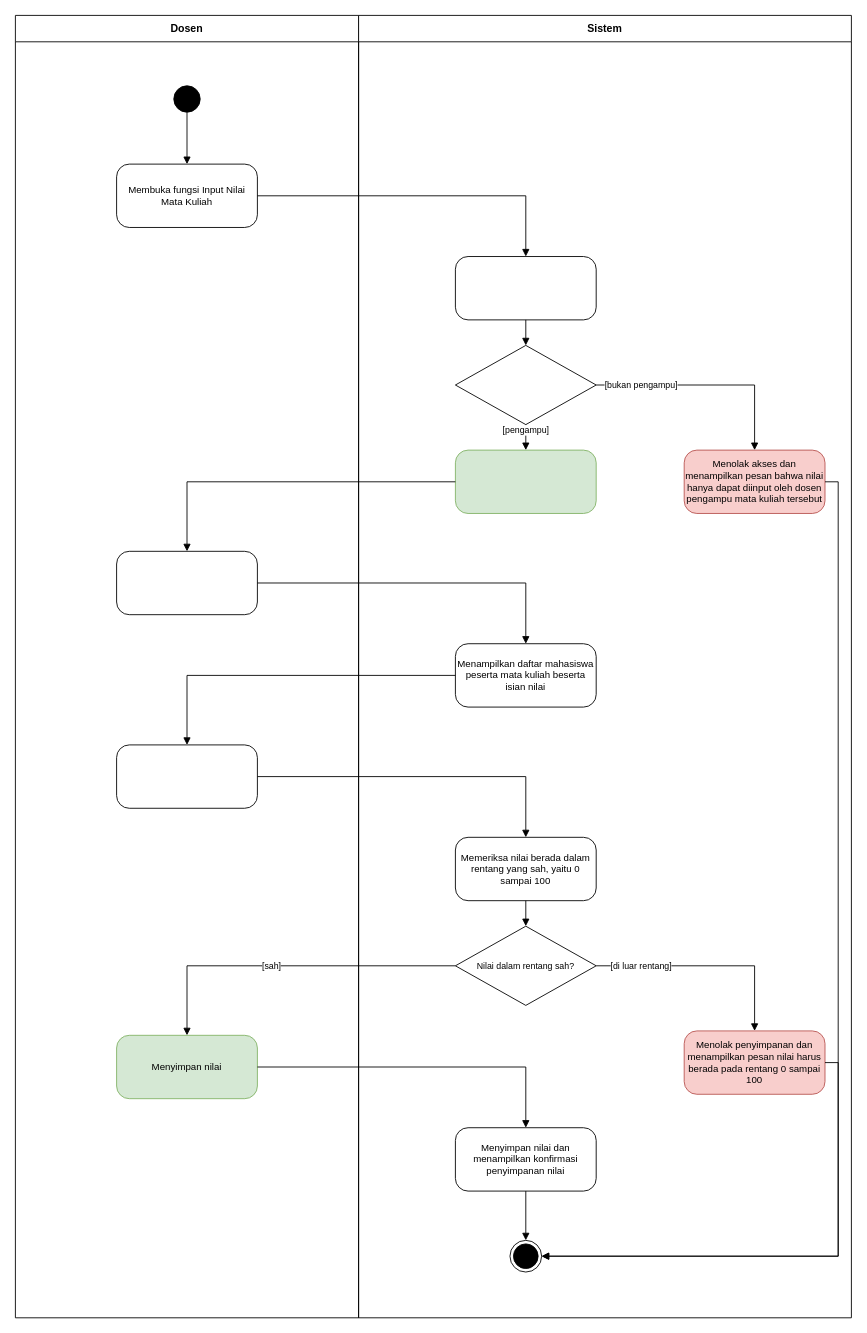
Some shapes in this 867 by 1333 pixel diagram are drawn without their labels. The box of each missing label's shape, as (x1, y1, x2, y2) in pixels:
Dosen pengampu mata kuliah?: (455, 345, 596, 425)
Memeriksa dosen sebagai pengampu mata kuliah: (455, 256, 596, 320)
Memilih mata kuliah yang akan dinilai: (116, 550, 257, 615)
Menampilkan daftar mata kuliah yang diampu: (455, 449, 596, 513)
Mengisi nilai setiap mahasiswa: (116, 744, 257, 808)
